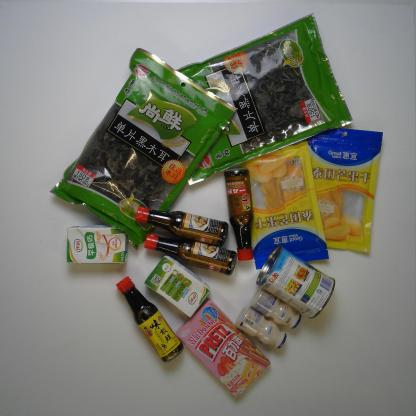Canned Food: (252, 244, 341, 320)
Dessert: (181, 298, 272, 398)
Dried Food: (51, 49, 239, 246), (164, 10, 352, 182)
Dried Fruit: (240, 140, 335, 268), (304, 125, 392, 256)
Milk: (54, 222, 133, 273), (142, 256, 209, 315), (237, 302, 288, 352), (250, 288, 301, 330)
Seasoner: (121, 277, 180, 365), (140, 230, 240, 276), (132, 201, 234, 245), (219, 169, 256, 265)
